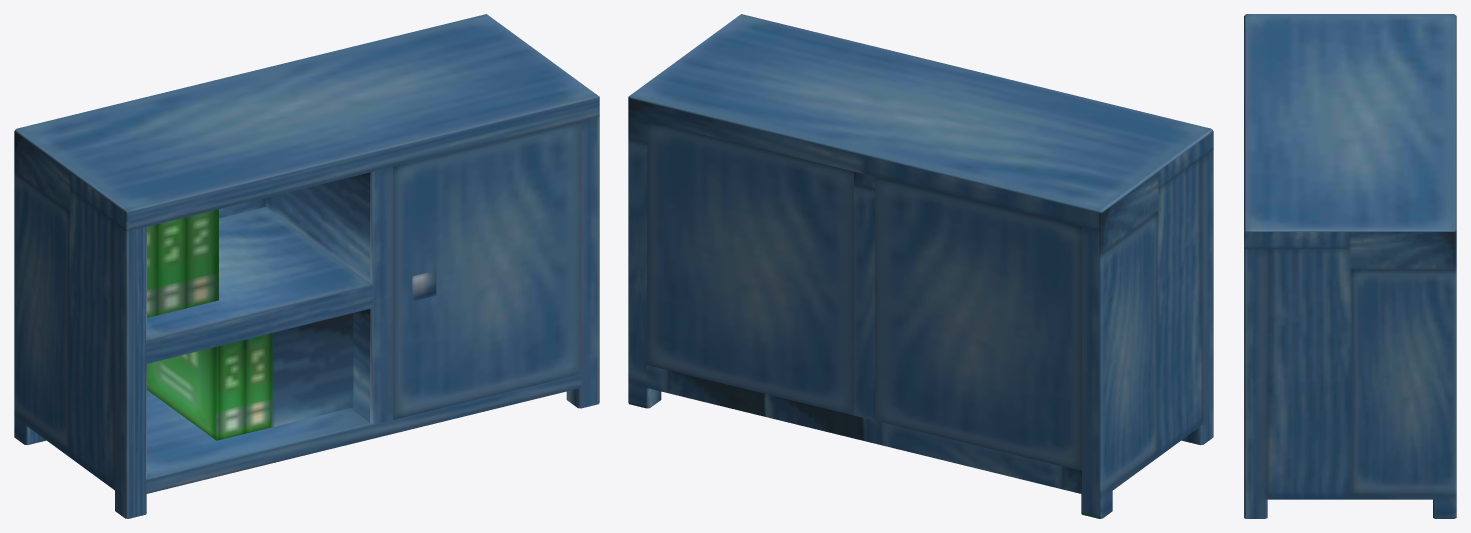
Rendered from rmk_blu_bookshelf.dae.
3 views of the same model, side by side, from view 1: azimuth 30°, elevation 25°; view 2: azimuth 150°, elevation 25°; view 3: azimuth 270°, elevation 25° (orthographic). The views are drawn at different scales.
Visible parts, largest first — view 1: rmk_blu_bookshelf; view 2: rmk_blu_bookshelf; view 3: rmk_blu_bookshelf.
Boxes of the visible parts, x1,y1,x2,y2 form: rmk_blu_bookshelf: [14, 14, 599, 518]; rmk_blu_bookshelf: [628, 14, 1213, 518]; rmk_blu_bookshelf: [1244, 14, 1456, 518].
Size of the model in its own units: 57.99 by 36 by 24.17.
1 material, 1 textured.
